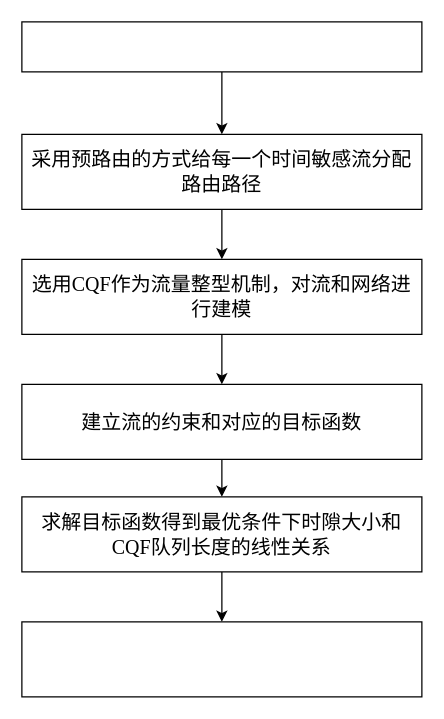
The diagram is 444 pixels wide and 719 high, and some of its shapes have lost their labels. The centre of each missing label's shape, as x and y in pixels:
"使用启发式的算法分配注入时隙偏移量" belongs at pixel 221 659.
"获取时间敏感流信息和网络信息" belongs at pixel 221 46.
